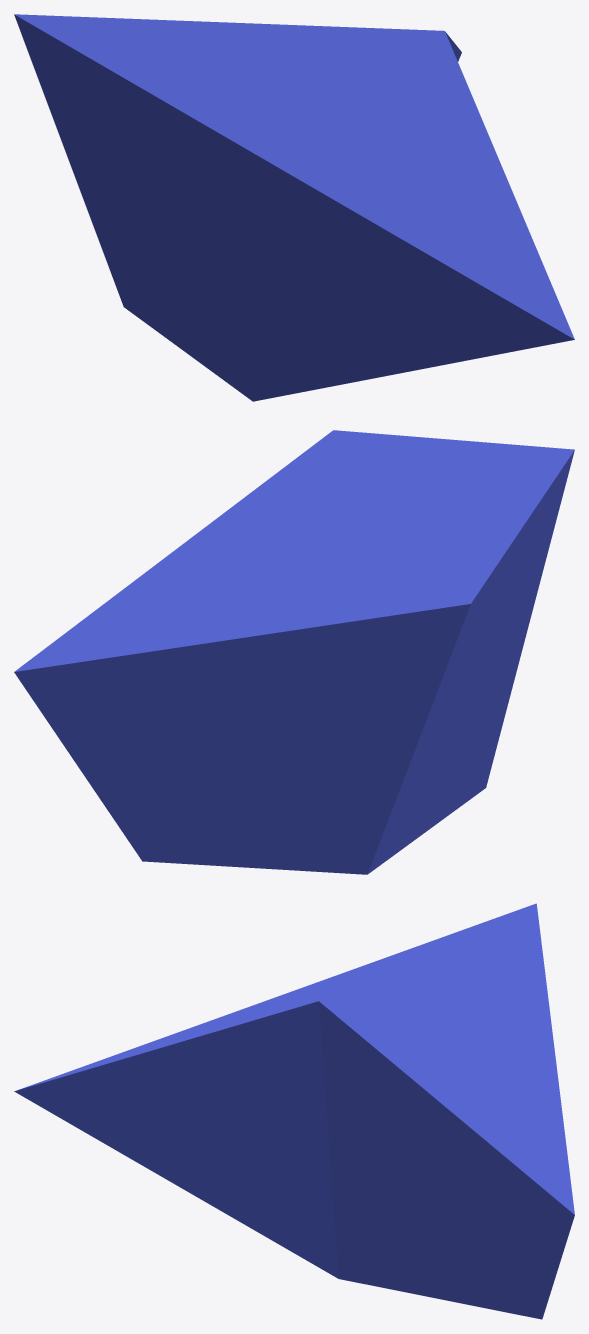
3 renders of one model, top to bottom at view 1: azimuth 30°, elevation 25°; view 2: azimuth 150°, elevation 25°; view 3: azimuth 270°, elevation 25°, orthographic. The views are drawn at different scales.
Visible parts, largest first — view 1: Cube; view 2: Cube; view 3: Cube.
Boxes of the visible parts, bbox=[...] form: Cube: bbox=[14, 14, 574, 401]; Cube: bbox=[14, 430, 574, 874]; Cube: bbox=[14, 903, 574, 1319].
Size of the model in its own units: 4.22 by 3.24 by 5.6.
